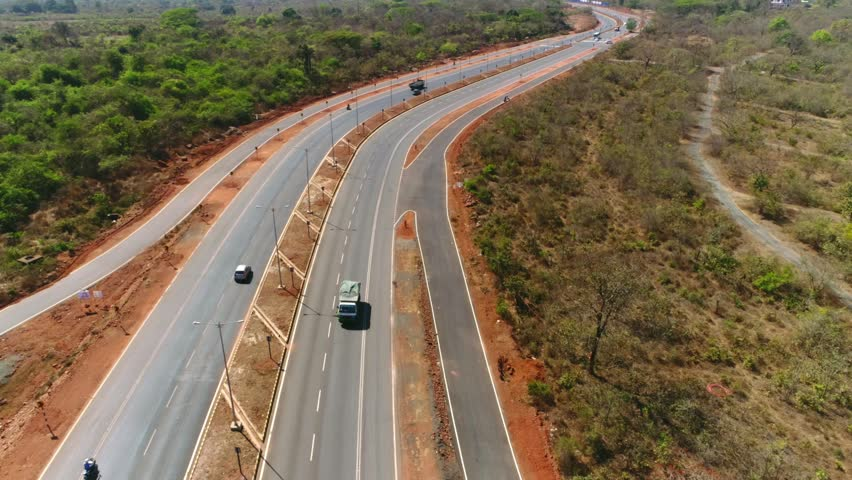Car: (231, 264, 253, 283)
Truck: (334, 281, 368, 329), (407, 79, 425, 93)
